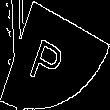P_NE: (34, 24, 76, 86)
